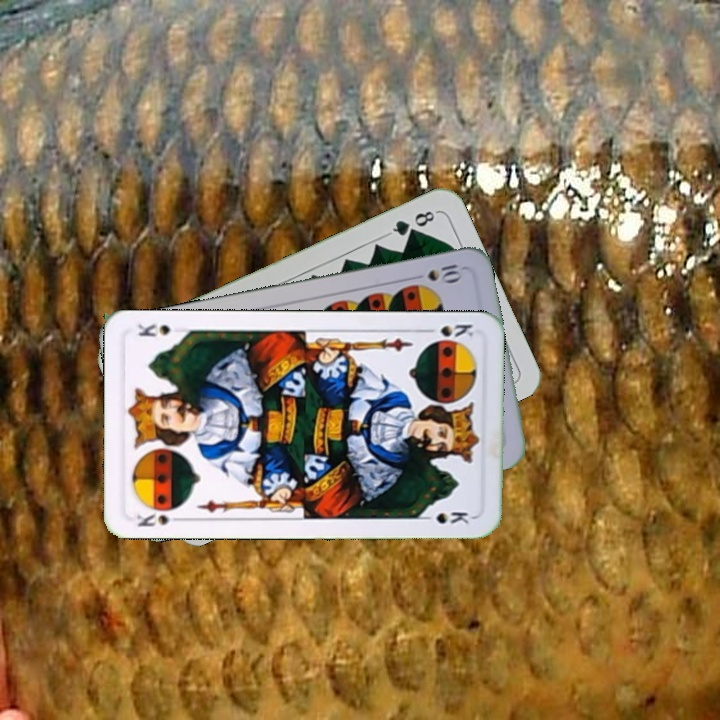G8: (384, 206, 440, 239)
S10: (407, 260, 466, 285)
SK: (133, 503, 187, 530), (419, 320, 476, 340)
